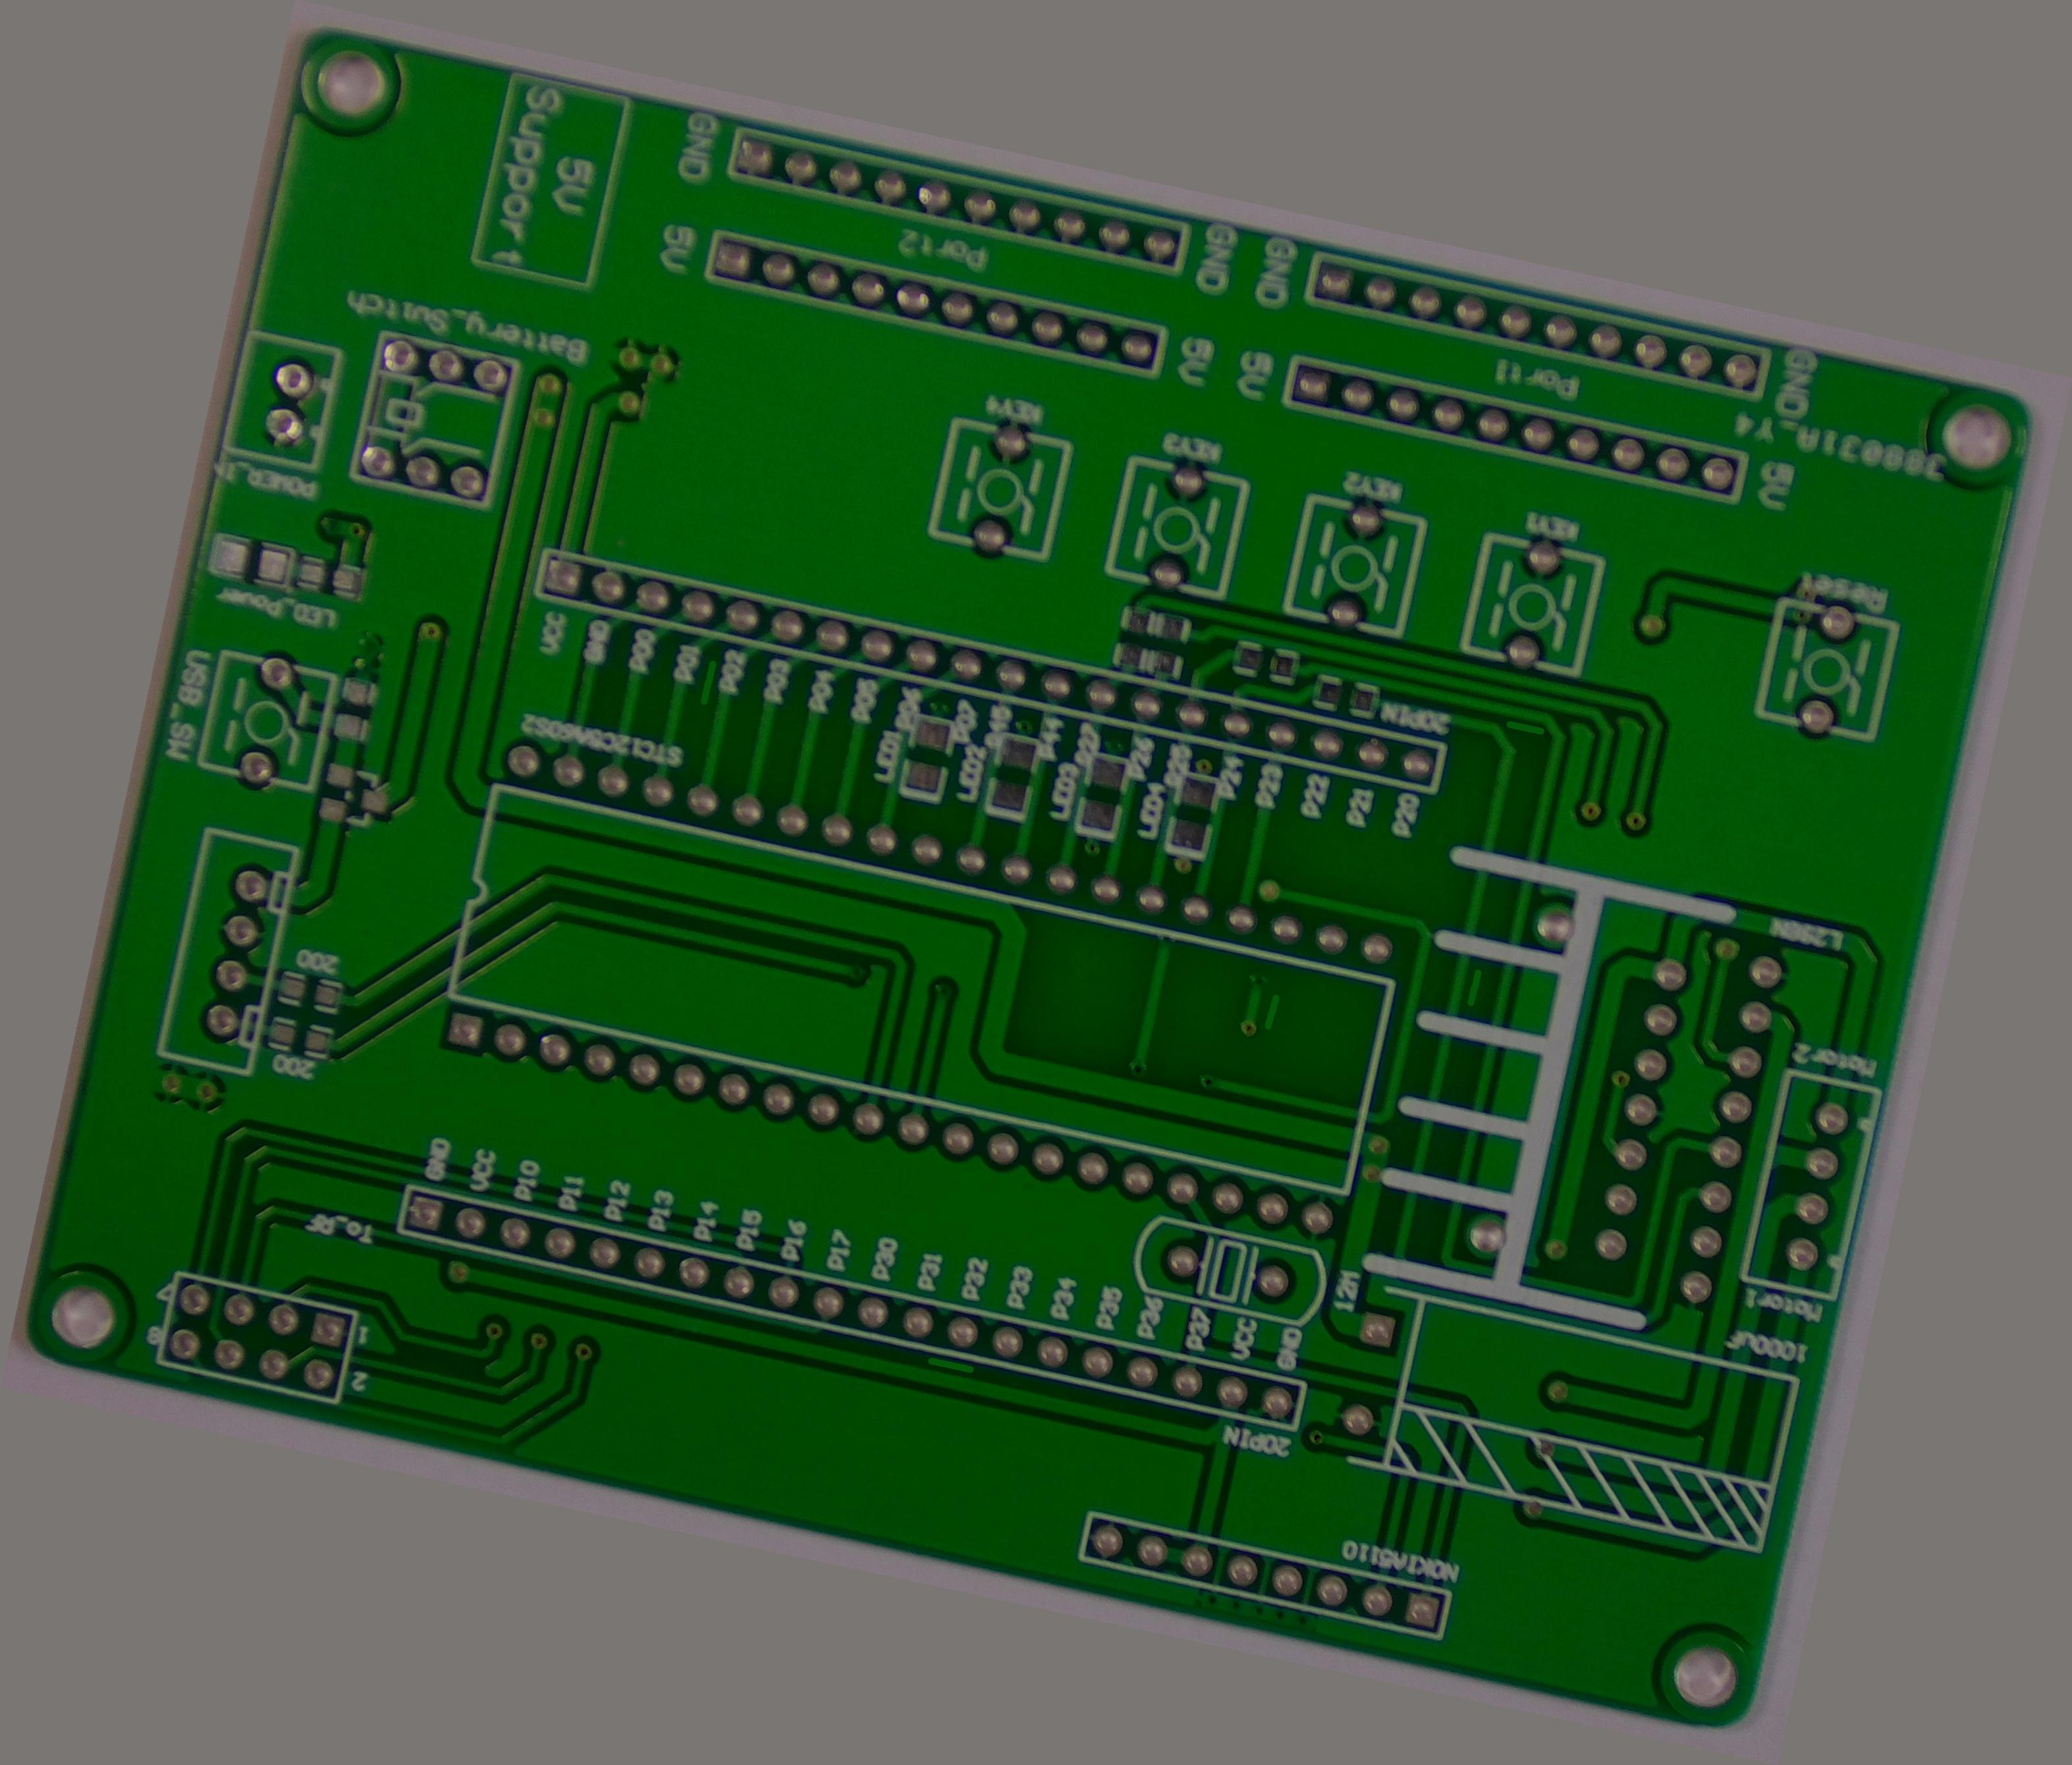spurious_copper: (1450, 951, 1503, 1017), (918, 1343, 991, 1389), (1492, 704, 1557, 755), (680, 648, 730, 713), (1249, 981, 1293, 1042)
